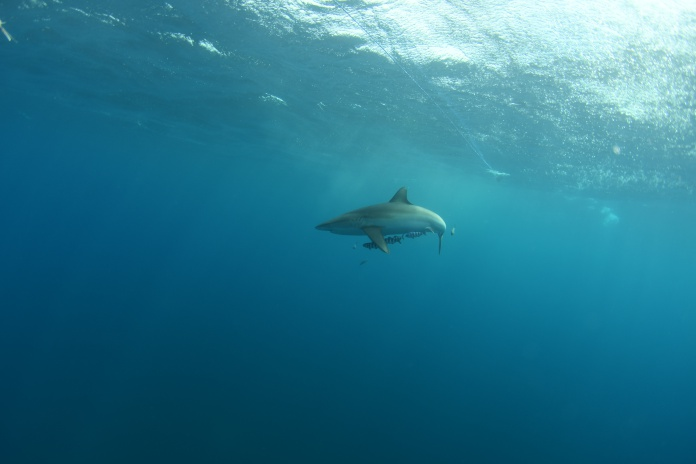Sedoso: (315, 181, 453, 261)
